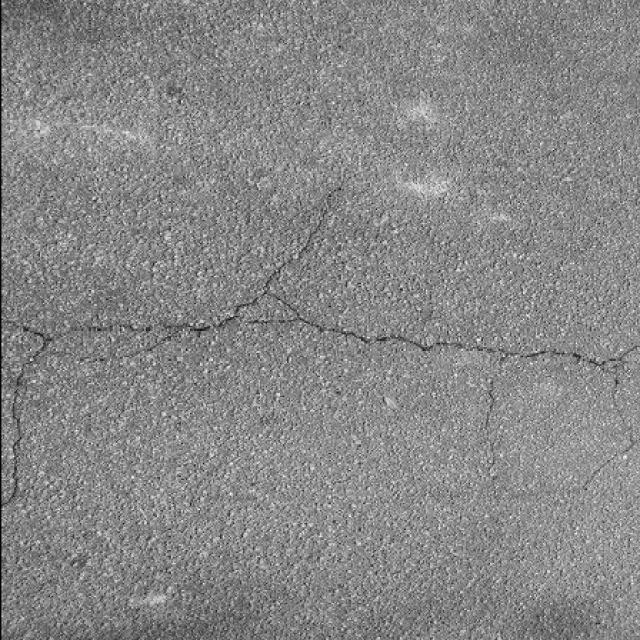Crack: (1, 182, 588, 504), (501, 350, 632, 500)
